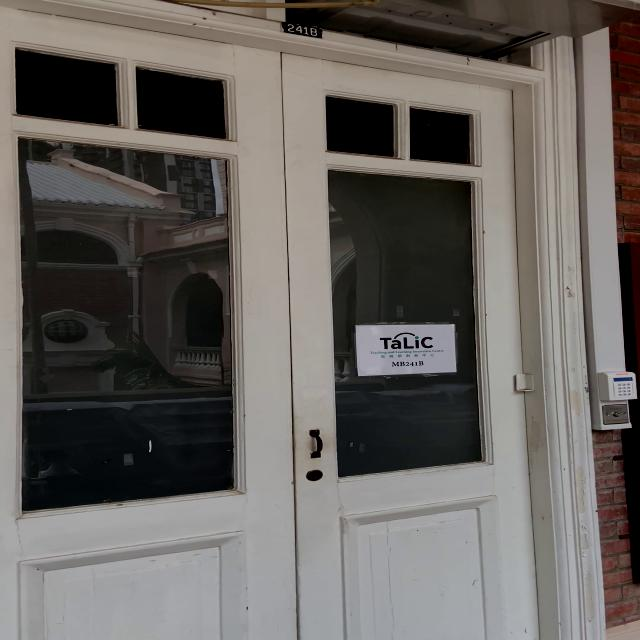room241b: (278, 20, 324, 42)
